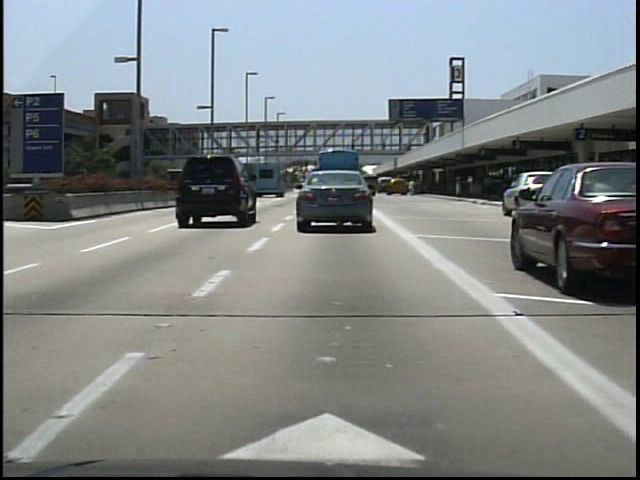person: (403, 176, 418, 201), (380, 136, 393, 158), (346, 136, 359, 156)
